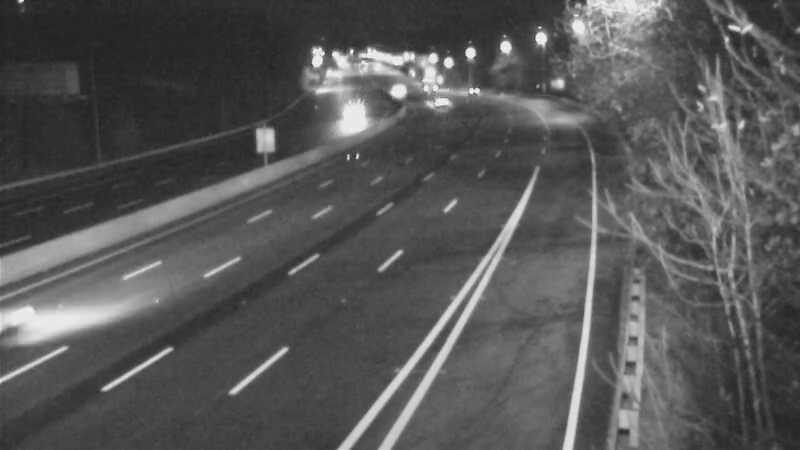vehicle: (449, 65, 499, 115), (403, 63, 453, 113), (371, 64, 421, 114), (410, 77, 460, 127), (329, 92, 379, 142)
